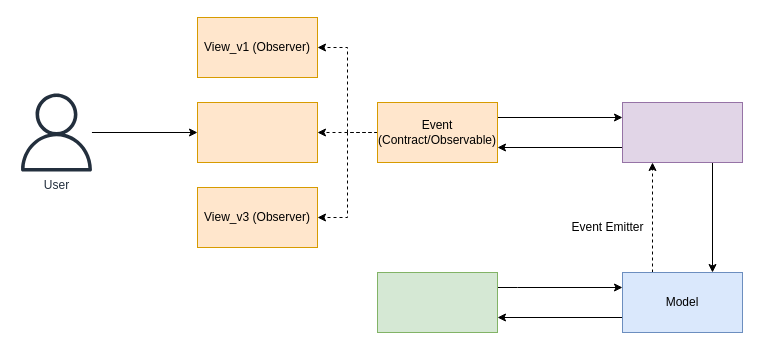
This 760x350 diagram has some shape labels left out. Here are the shapes that lost their labels. From the top down, the centre of each, then its label:
At point 257,132: "View_v2 (Observer)".
At point 682,132: "ViewModel".
At point 437,302: "API".
